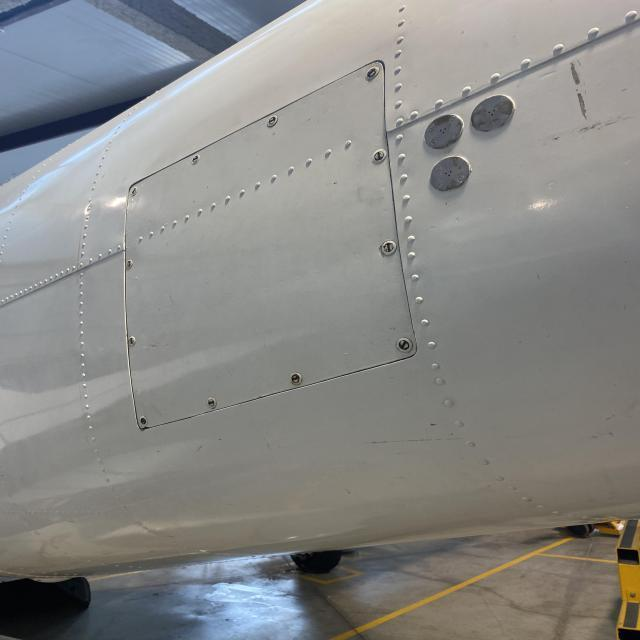Missing Fastener: (137, 411, 153, 429)
